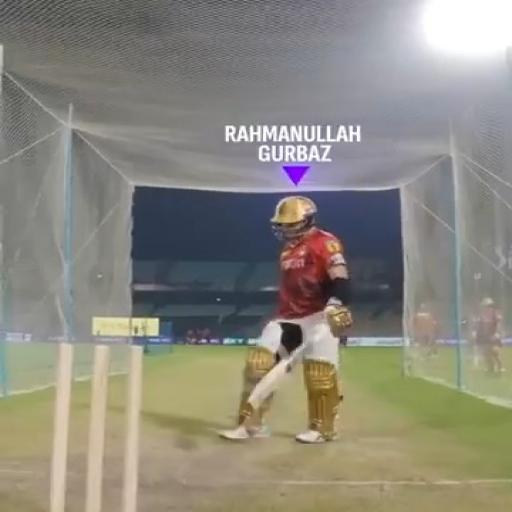Cricket bat: (249, 348, 302, 407)
